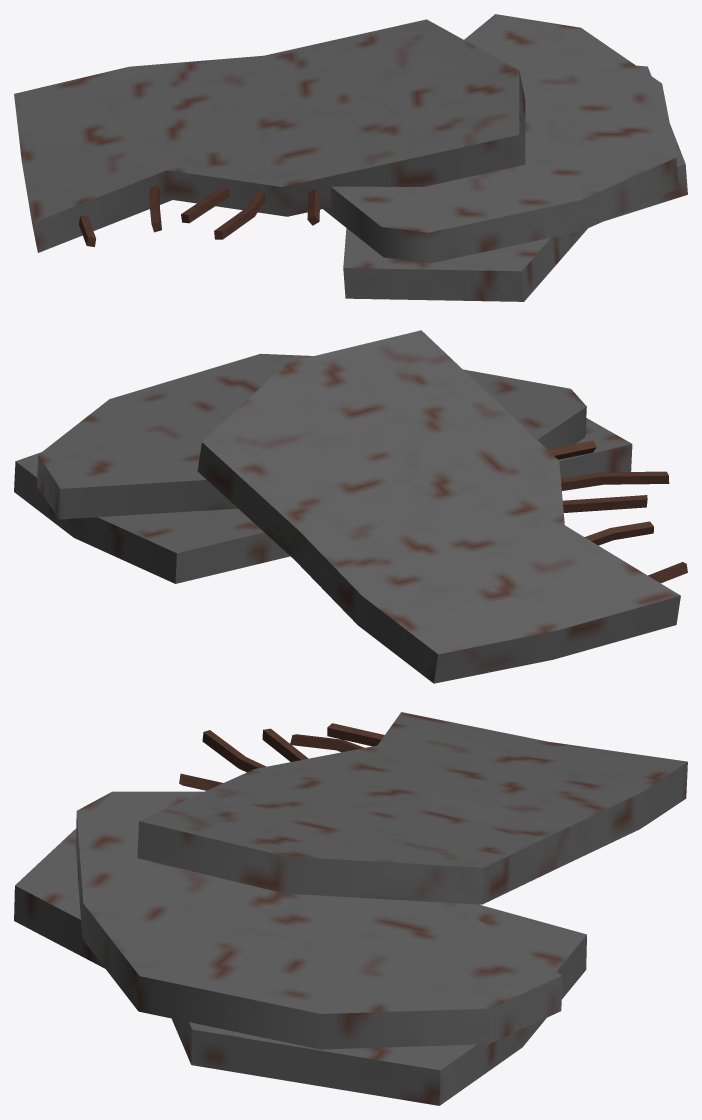
The model's file is BrokenConcrete 1.fbx.
The picture shows the model from 3 angles, top to bottom: view 1: azimuth 30°, elevation 25°; view 2: azimuth 150°, elevation 25°; view 3: azimuth 270°, elevation 25°; orthographic projection. The views are drawn at different scales.
Visible parts, largest first — view 1: Cube.049; view 2: Cube.049; view 3: Cube.049.
Part boxes in pixels (x1,y1,x2,y2): Cube.049: (14, 14, 687, 301); Cube.049: (14, 330, 687, 683); Cube.049: (14, 712, 687, 1105).
Size of the model in its own units: 323 by 60.84 by 265.
